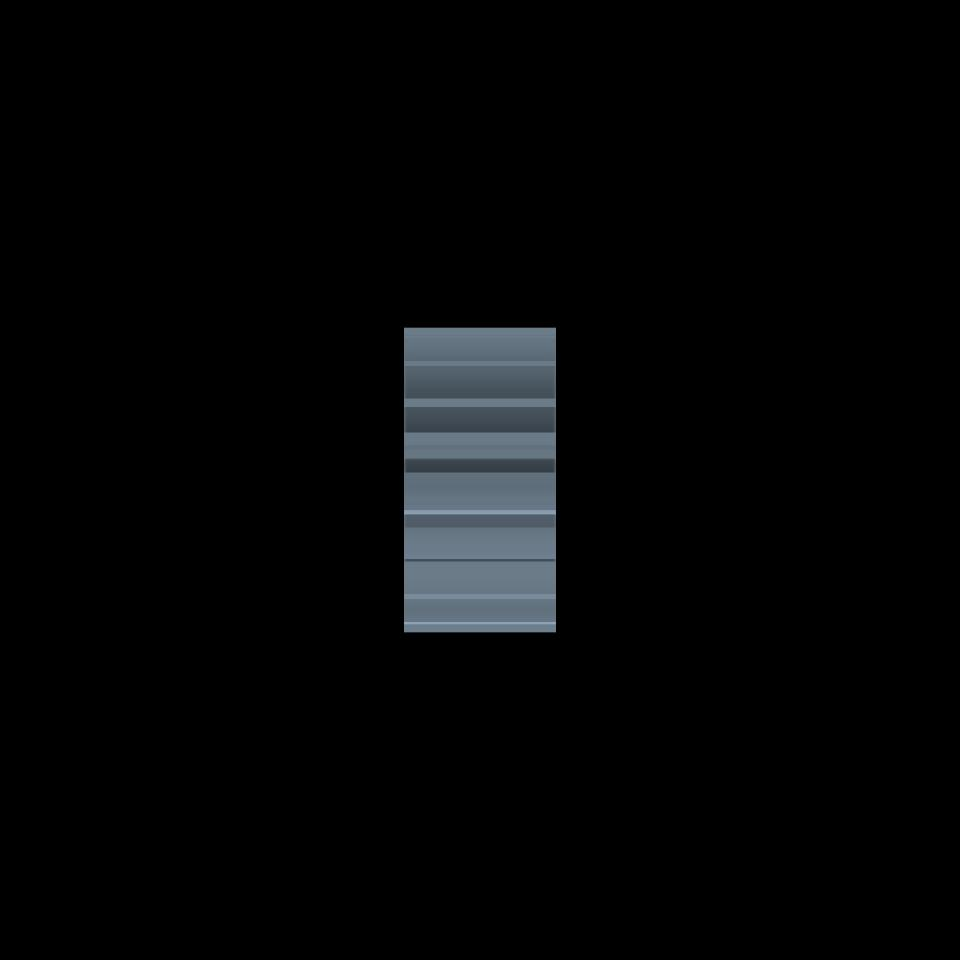Straight: (403, 326, 554, 631)
